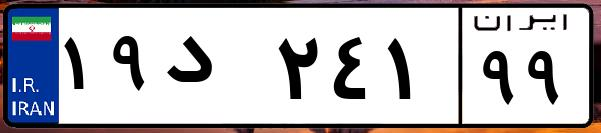1: (385, 28, 445, 110), (57, 26, 110, 100)
2: (270, 28, 330, 110)
4: (330, 28, 385, 110)
9: (475, 38, 525, 113), (525, 38, 570, 115), (110, 28, 158, 98)
د: (158, 20, 270, 120)
